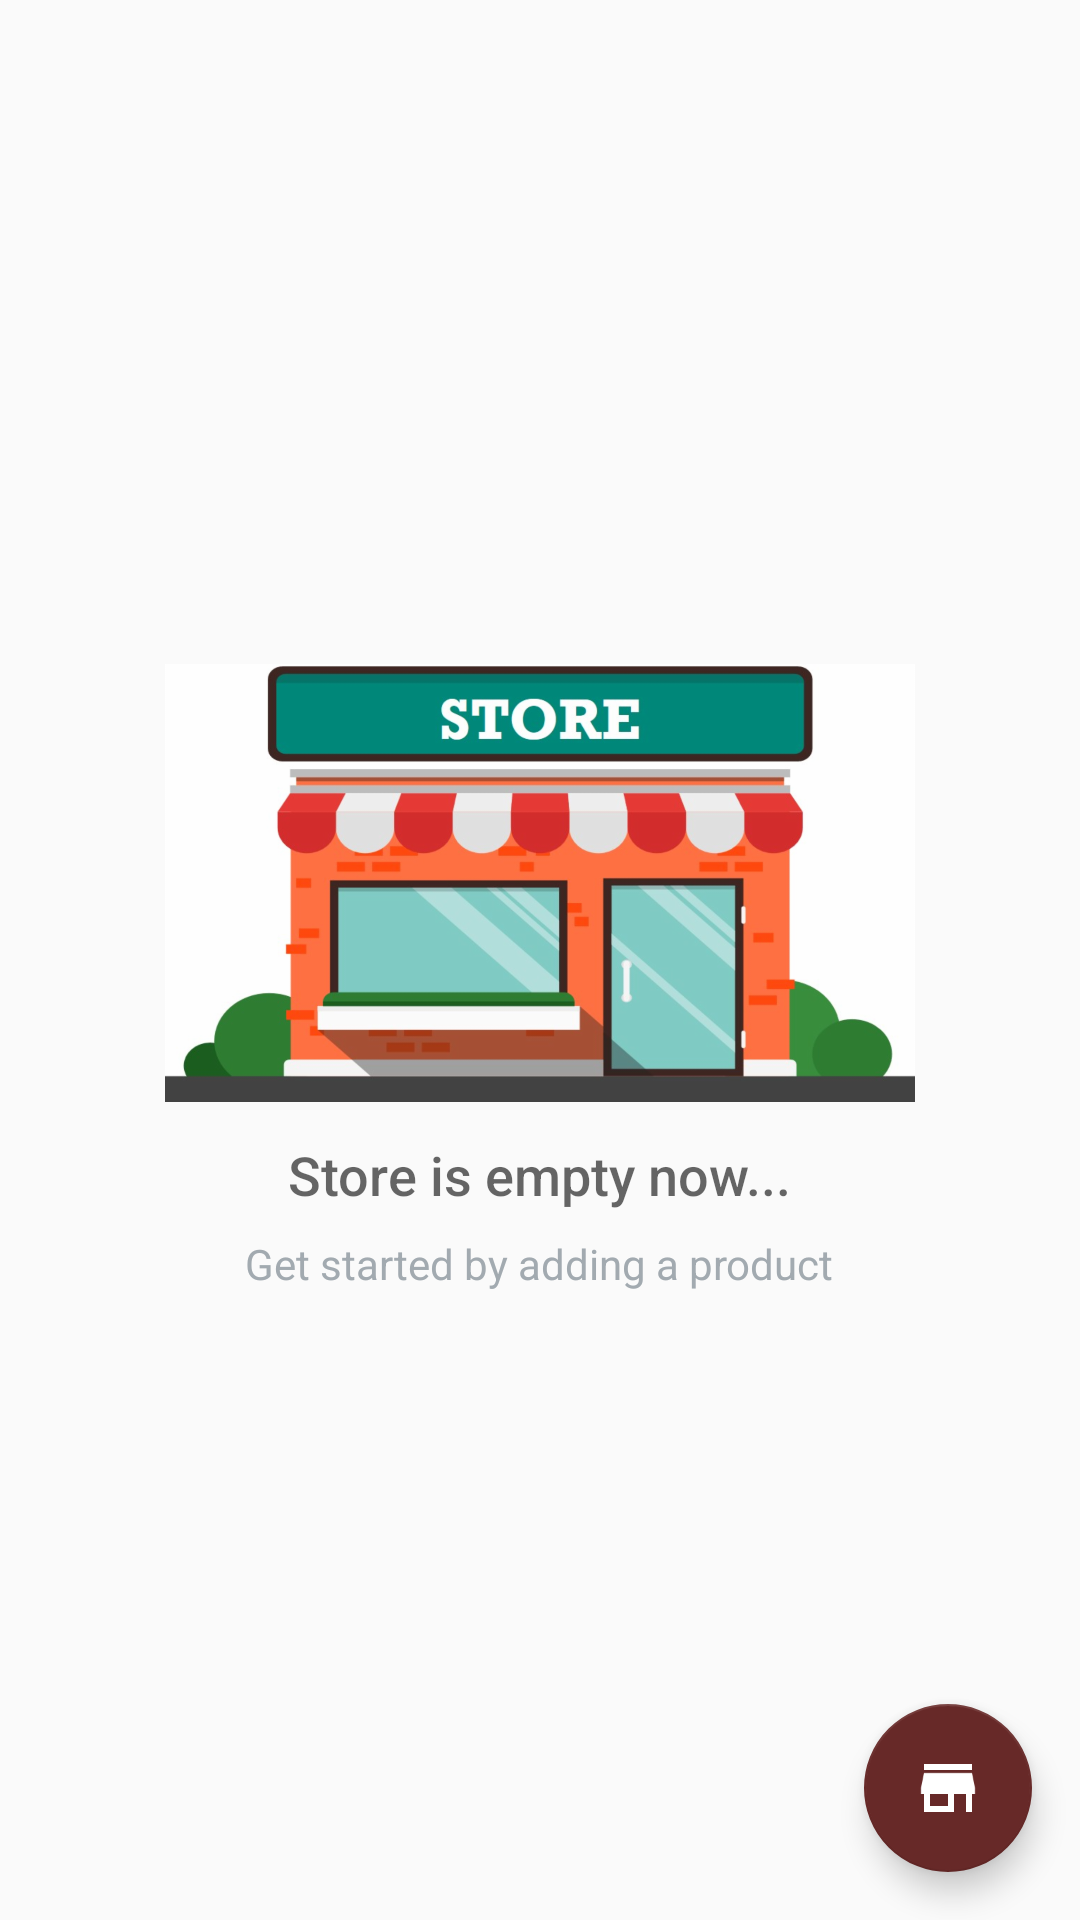

Named icons in this screenshot (1080x1920) and their centers, [x,y]:
store: [948,1788]
